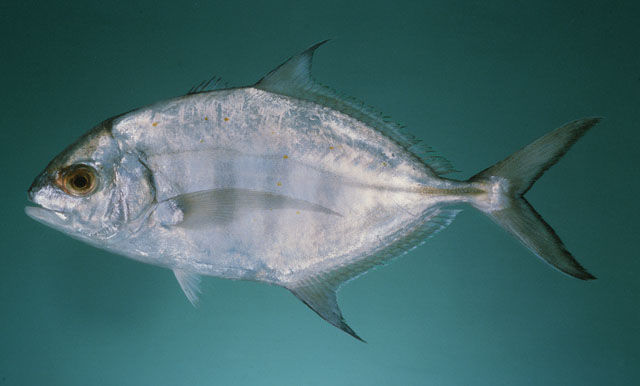fish: (25, 38, 605, 345)
